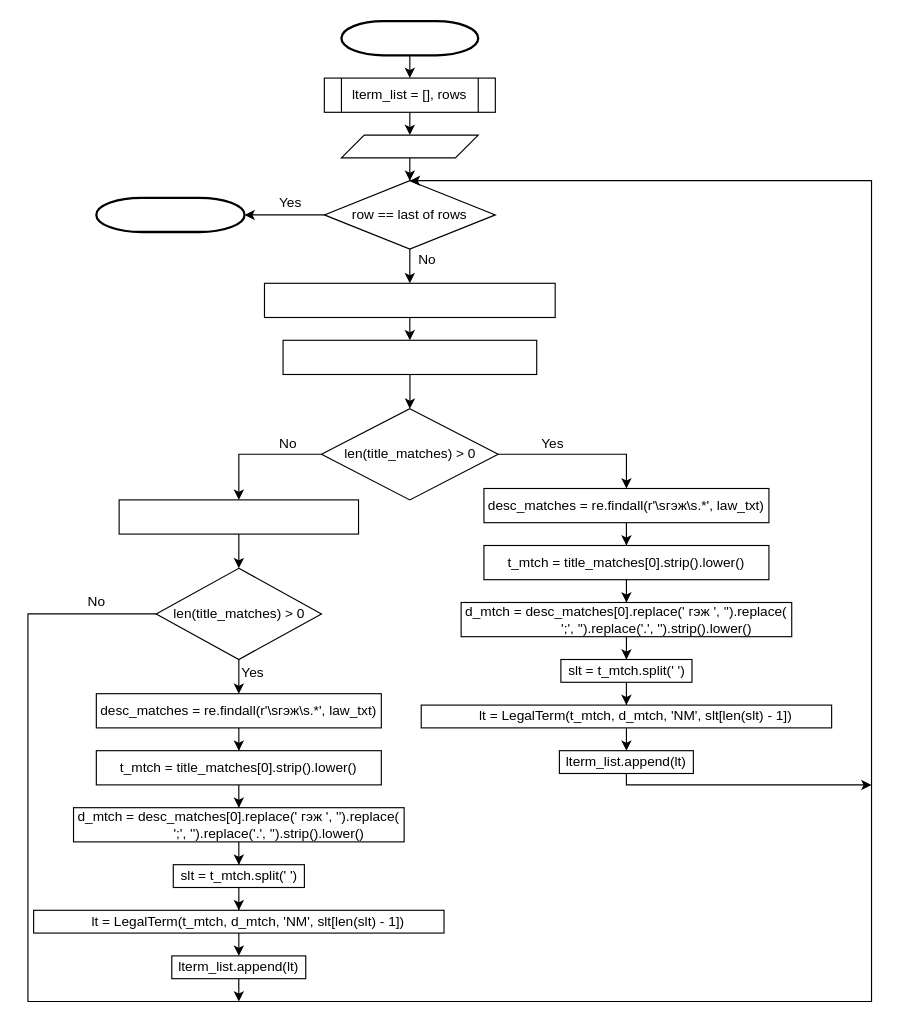
The diagram is 901 pixels wide and 1031 high, and some of its shapes have lost their labels. Here are the shapes that lost their labels. From the top down, the centre of each, then its label:
point 409,37: start
point 409,146: txt_df
point 170,214: return lterm_list
point 409,299: law_txt = row[0].lower().strip()
point 409,356: title_matches = re.findall(r'\."([^"]*)"\sгэж\s', law_txt)
point 238,516: title_matches = re.findall(r'\.“([^“]*)”\sгэж\s', law_txt)
